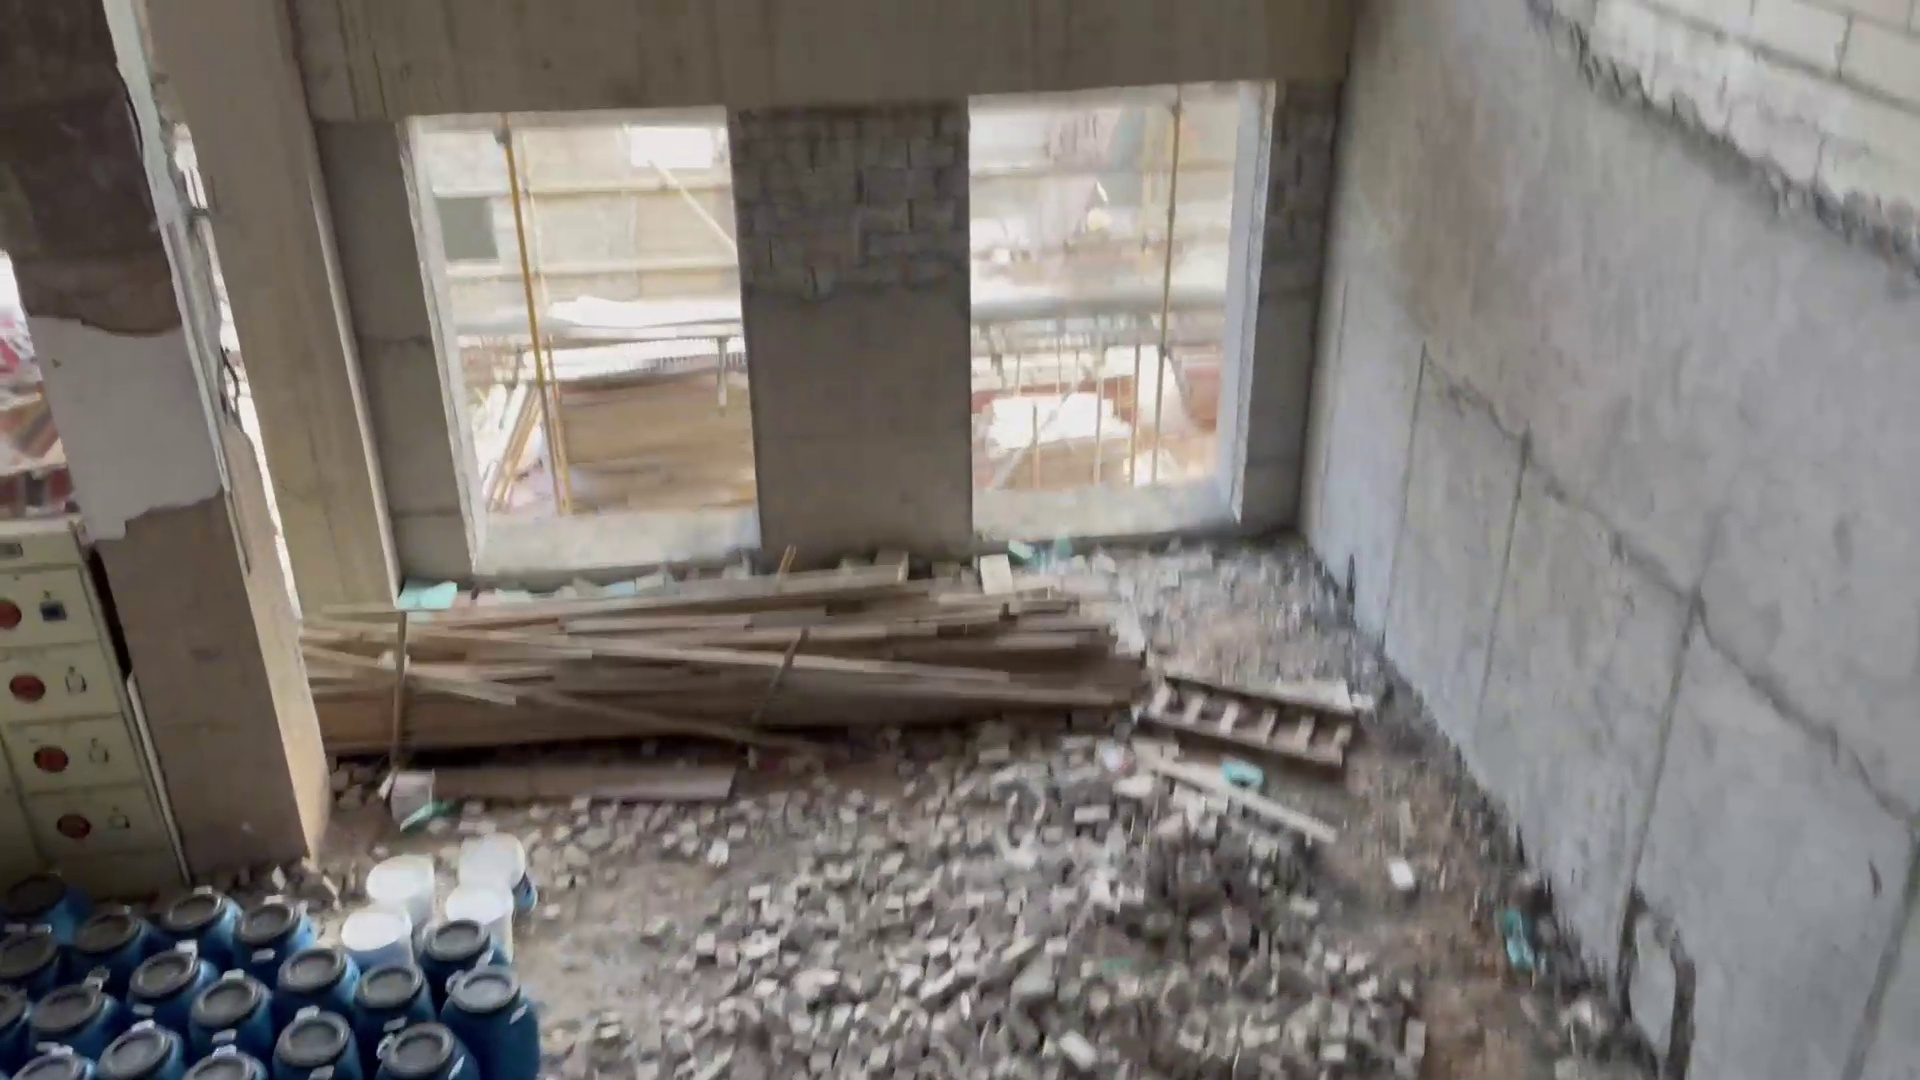board: (539, 378, 750, 493)
helmet: (1083, 210, 1116, 237)
wood: (323, 563, 1141, 732), (986, 386, 1138, 481)
